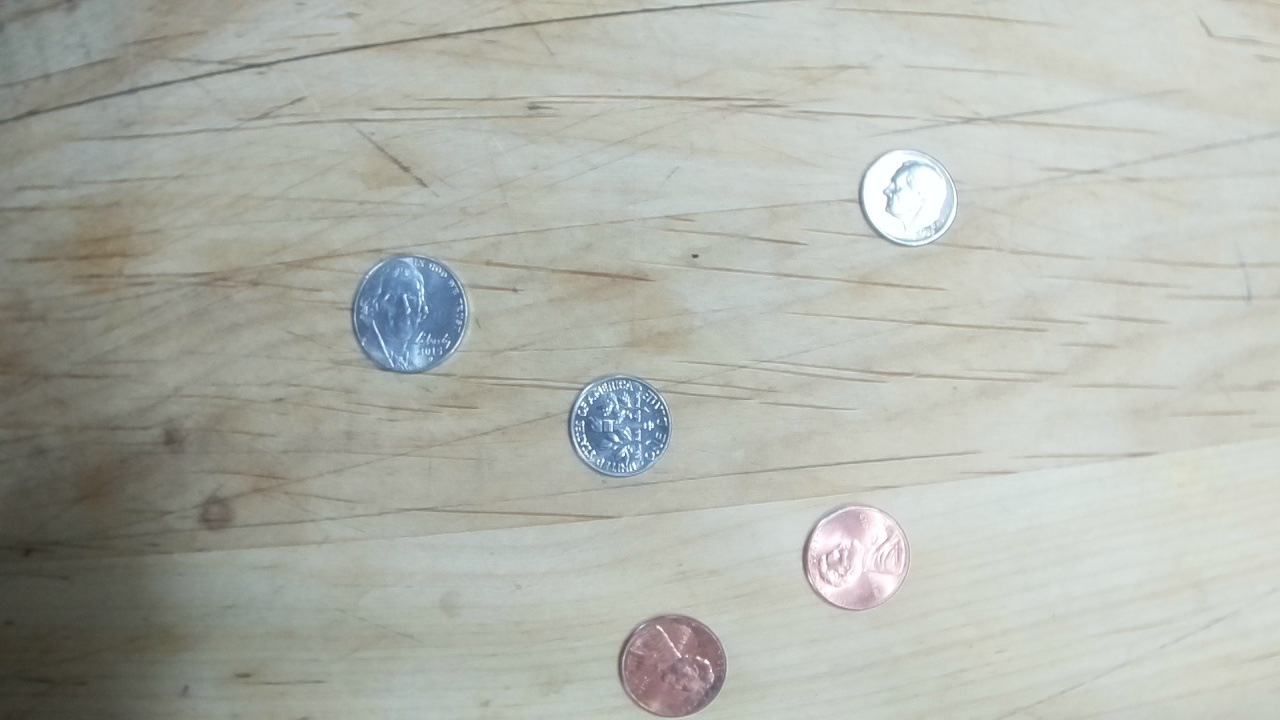dime: (566, 371, 672, 479), (854, 146, 960, 248)
nickel: (350, 252, 470, 374)
penny: (798, 502, 914, 612), (614, 610, 728, 716)
